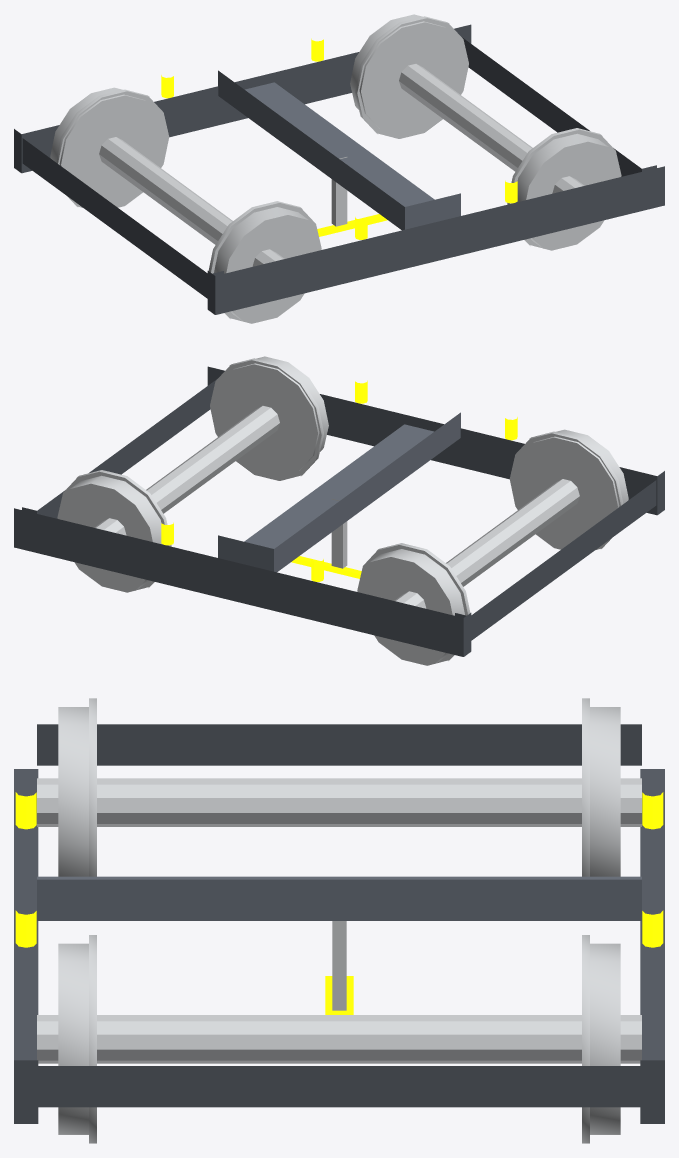
The model's file is ext_tram_bogie_01.glb.
The picture shows the model from 3 angles, top to bottom: view 1: azimuth 30°, elevation 25°; view 2: azimuth 150°, elevation 25°; view 3: azimuth 270°, elevation 25°; orthographic projection. The views are drawn at different scales.
Visible parts, largest first — view 1: Side_Frames, Wheelset_2, Wheelset_1, Bolster, End_Beams, Springs, Collector_Hanger, Collector_Shoe; view 2: Side_Frames, Wheelset_2, Wheelset_1, Bolster, End_Beams, Springs, Collector_Hanger, Collector_Shoe; view 3: End_Beams, Wheelset_1, Wheelset_2, Bolster, Side_Frames, Springs, Collector_Hanger, Collector_Shoe.
Boxes of the visible parts, x1,y1,x2,y2 form: Side_Frames: [14, 24, 664, 314]; Wheelset_2: [350, 14, 621, 250]; Wheelset_1: [50, 87, 321, 323]; Bolster: [218, 70, 460, 230]; End_Beams: [22, 37, 656, 298]; Springs: [161, 38, 517, 239]; Collector_Hanger: [331, 157, 347, 226]; Collector_Shoe: [317, 214, 387, 236]; Side_Frames: [14, 366, 664, 656]; Wheelset_2: [57, 356, 328, 592]; Wheelset_1: [357, 429, 628, 665]; Bolster: [218, 412, 460, 572]; End_Beams: [22, 379, 656, 640]; Springs: [161, 380, 517, 581]; Collector_Hanger: [331, 499, 347, 568]; Collector_Shoe: [291, 556, 361, 578]; End_Beams: [37, 724, 641, 1107]; Wheelset_1: [37, 698, 641, 876]; Wheelset_2: [37, 935, 641, 1143]; Bolster: [37, 876, 641, 920]; Side_Frames: [14, 769, 664, 1123]; Springs: [15, 792, 663, 947]; Collector_Hanger: [332, 921, 346, 1010]; Collector_Shoe: [325, 976, 353, 1014].
Bounding box in the file's own units: 2.4 × 0.5947 × 1.86.
